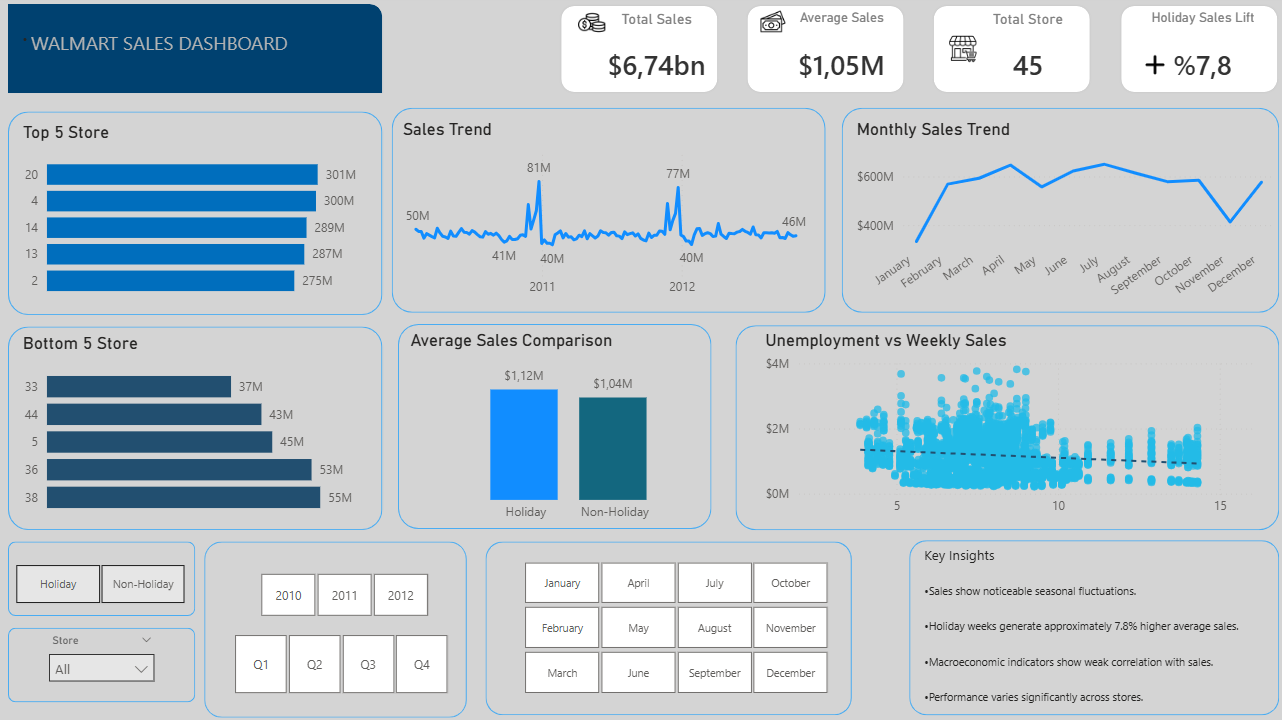

This screenshot's page, from the dashboard's own definition file:
{"tool":"powerbi","page":{"name":"Page 1","canvas":[1279,720],"ordinal":0},"visuals":[{"type":"group","id":"g1","title":"Group 17","box":[9.4,5,372.5,523.7],"z":0,"group":"g22"},{"type":"group","id":"g2","title":"Group 4","box":[9.4,5,372.5,88.9],"z":0,"group":"g20"},{"type":"group","id":"g3","title":"Group 21","box":[391.8,5,883.2,307.3],"z":0},{"type":"group","id":"g4","title":"Group 2","box":[558.5,5,716,89.6],"z":0,"group":"g12"},{"type":"group","id":"g5","title":"Group 1","box":[558.5,5,716,89.6],"z":0,"group":"g7"},{"type":"shape","box":[1115.2,5,159.3,89.6],"z":0,"group":"g5"},{"type":"shape","box":[391.8,108.2,431.7,204],"z":0,"group":"g19"},{"type":"shape","box":[733.9,324.7,541.1,204],"z":0,"group":"g18"},{"type":"group","id":"g6","title":"Group 9","box":[-2.5,539.8,207.3,74.1],"z":0,"group":"g9"},{"type":"group","id":"g7","title":"Group 5","box":[558.5,5,716,89.6],"z":1000,"group":"g4"},{"type":"image","box":[758.8,10,24.9,24.9],"z":1000,"group":"g12"},{"type":"cardVisual","title":"Total Sales","fields":{"Data":["Sum(Walmart1.Weekly_Sales)"]},"box":[577.2,11.6,156.7,80.9],"z":1000,"group":"g7"},{"type":"group","id":"g8","title":"Group 8","box":[9.4,112.5,372.5,202.6],"z":1000,"group":"g20"},{"type":"group","id":"g9","title":"Group 18","box":[-2.5,539.8,207.3,159.3],"z":1000,"group":"g22"},{"type":"shape","box":[485.1,539.9,364.5,172.9],"z":1000},{"type":"group","id":"g10","title":"Group 11","box":[9.4,625,186.3,74.1],"z":1000,"group":"g9"},{"type":"shape","box":[929.7,5,159.3,89.6],"z":2000,"group":"g5"},{"type":"image","box":[577.2,10,27.4,27.4],"z":2000,"group":"g4"},{"type":"cardVisual","title":"Holiday Sales Lift","fields":{"Data":["Holiday Sales Lift.Holiday Sales Lift"]},"box":[1138.3,11.6,121.9,83.3],"z":2000,"group":"g11"},{"type":"shape","box":[398.1,323.4,312,204],"z":2000},{"type":"shape","box":[9.4,326.1,372.5,202.6],"z":2000,"group":"g21"},{"type":"shape","box":[9.4,625,186.3,74.1],"z":2000,"group":"g10"},{"type":"shape","box":[744.1,5,159.3,89.6],"z":3000,"group":"g5"},{"type":"lineChart","title":"Sales Trend","fields":{"Y":["Sum(Sales Trend.Sum of Weekly_Sales)"],"Category":["Sales Trend.Date.Variation.Date Hierarchy.Year","Sales Trend.Date.Variation.Date Hierarchy.Quarter","Sales Trend.Date.Variation.Date Hierarchy.Month","Sales Trend.Date.Variation.Date Hierarchy.Day"]},"box":[398,119.4,414.2,185.3],"z":3000,"group":"g19"},{"type":"shape","box":[9.4,539.8,186.3,74.1],"z":3000,"group":"g6"},{"type":"shape","box":[205.3,539.9,261.2,175.4],"z":3000},{"type":"shape","box":[558.5,5,159.3,89.6],"z":4000,"group":"g5"},{"type":"cardVisual","title":"Average Sales","fields":{"Data":["Avg(Walmart1.Weekly_Sales)"]},"box":[771.3,11.6,136.8,83.3],"z":4000},{"type":"barChart","title":"Bottom 5 Store","fields":{"Y":["Sum(Bottom 5.Total_Weekly_Sales)"],"Category":["Bottom 5.Store"]},"box":[19.3,332.3,350.2,191.4],"z":4000,"group":"g21"},{"type":"group","id":"g11","title":"Group 7","box":[1138.3,11.6,121.9,83.3],"z":5000},{"type":"shape","box":[839.6,108.2,435.4,204],"z":5000,"group":"g23"},{"type":"group","id":"g12","title":"Group 6","box":[558.5,5,716,89.6],"z":6000,"group":"g23"},{"type":"slicer","fields":{"Values":["Walmart1.Date.Variation.Date Hierarchy.Year"]},"box":[241.3,569.7,205.3,46],"z":6000},{"type":"cardVisual","title":"Total Store","fields":{"Data":["Count(Walmart1.Store)"]},"box":[974.1,11.6,102,80.9],"z":7000,"group":"g15"},{"type":"shape","box":[9.4,112.5,372.5,202.6],"z":7000,"group":"g8"},{"type":"slicer","fields":{"Values":["Walmart1.Date.Variation.Date Hierarchy.Month"]},"box":[503.8,558.5,345.8,134.3],"z":7000},{"type":"group","id":"g13","title":"Group 3","box":[946.7,11.6,129.4,80.9],"z":8000},{"type":"columnChart","title":"Average Sales Comparison","fields":{"Y":["Avg(Walmart1.Weekly_Sales)"],"Category":["Walmart1.Holiday Type"]},"box":[405.5,329.7,328.4,199],"z":8000,"group":"g14"},{"type":"image","box":[1138.2,52.2,26.1,26.1],"z":9000},{"type":"barChart","title":"Top 5 Store","fields":{"Category":["Top 5.Store"],"Y":["Sum(Top 5.Total_Weekly_Sales)"]},"box":[19.3,122.4,350.2,185.3],"z":9000,"group":"g8"},{"type":"scatterChart","title":"Unemployment vs Weekly Sales","fields":{"X":["Walmart1.Unemployment"],"Y":["Walmart1.Weekly_Sales"]},"box":[758.8,329.7,501.3,192.8],"z":9000,"group":"g18"},{"type":"shape","box":[906.8,538.6,368.2,174.2],"z":10000,"group":"g16"},{"type":"slicer","fields":{"Values":["Walmart1.Quarter"]},"box":[215.2,630.7,251.3,62.2],"z":10000},{"type":"group","id":"g14","title":"Group 22","box":[-2.5,5,1277.5,694.1],"z":11000},{"type":"image","box":[946.7,35.9,27.4,27.4],"z":11000,"group":"g15"},{"type":"lineChart","title":"Monthly Sales Trend","fields":{"Category":["Walmart1.Date.Variation.Date Hierarchy.Month"],"Y":["Sum(Walmart1.Weekly_Sales)"]},"box":[849.6,119.4,425.4,189.1],"z":11000,"group":"g23"},{"type":"group","id":"g15","title":"Group 10","box":[946.7,11.6,129.4,80.9],"z":11001,"group":"g13"},{"type":"shape","box":[9.4,5,372.5,88.9],"z":12000,"group":"g2"},{"type":"group","id":"g16","title":"Group 23","box":[906.8,521.2,368.2,191.6],"z":12000},{"type":"textbox","box":[9.4,26,372.5,51.9],"z":13000,"group":"g2"},{"type":"group","id":"g17","title":"Group 12","box":[9.4,326.1,372.5,202.6],"z":14000,"group":"g1"},{"type":"group","id":"g18","title":"Group 14","box":[733.9,324.7,541.1,204],"z":16000,"group":"g14"},{"type":"group","id":"g19","title":"Group 15","box":[391.8,108.2,431.7,204],"z":17000,"group":"g3"},{"type":"slicer","fields":{"Values":["Walmart1.Holiday Type"]},"box":[-2.5,561.2,207.3,42],"z":20000,"group":"g6"},{"type":"slicer","fields":{"Values":["Walmart1.Store"]},"box":[45.4,631.2,114.2,65.5],"z":21000,"group":"g10"},{"type":"textbox","box":[916.8,521.2,358.3,190.3],"z":26000,"group":"g16"},{"type":"group","id":"g20","title":"Group 16","box":[9.4,5,372.5,310],"z":27005,"group":"g1"},{"type":"group","id":"g21","title":"Group 13","box":[9.4,326.1,372.5,202.6],"z":27005,"group":"g17"},{"type":"group","id":"g22","title":"Group 19","box":[-2.5,5,384.4,694.1],"z":27008,"group":"g14"},{"type":"group","id":"g23","title":"Group 20","box":[558.5,5,716.5,307.3],"z":27009,"group":"g3"}]}

Visuals, with their boxes in screenshot pixels (x1, y1, x2, y2), scaled from the page's 1279x720 canvas onto the 1282x720 screenshot:
"Group 17" group: {"left": 9, "top": 5, "right": 383, "bottom": 529}
"Group 4" group: {"left": 9, "top": 5, "right": 383, "bottom": 94}
"Group 21" group: {"left": 393, "top": 5, "right": 1278, "bottom": 312}
"Group 2" group: {"left": 560, "top": 5, "right": 1277, "bottom": 95}
"Group 1" group: {"left": 560, "top": 5, "right": 1277, "bottom": 95}
shape: {"left": 1118, "top": 5, "right": 1277, "bottom": 95}
shape: {"left": 393, "top": 108, "right": 825, "bottom": 312}
shape: {"left": 736, "top": 325, "right": 1278, "bottom": 529}
"Group 9" group: {"left": 0, "top": 540, "right": 205, "bottom": 614}
"Group 5" group: {"left": 560, "top": 5, "right": 1277, "bottom": 95}
image: {"left": 761, "top": 10, "right": 786, "bottom": 35}
"Total Sales" cardVisual: {"left": 579, "top": 12, "right": 736, "bottom": 92}
"Group 8" group: {"left": 9, "top": 112, "right": 383, "bottom": 315}
"Group 18" group: {"left": 0, "top": 540, "right": 205, "bottom": 699}
shape: {"left": 486, "top": 540, "right": 852, "bottom": 713}
"Group 11" group: {"left": 9, "top": 625, "right": 196, "bottom": 699}
shape: {"left": 932, "top": 5, "right": 1092, "bottom": 95}
image: {"left": 579, "top": 10, "right": 606, "bottom": 37}
"Holiday Sales Lift" cardVisual: {"left": 1141, "top": 12, "right": 1263, "bottom": 95}
shape: {"left": 399, "top": 323, "right": 712, "bottom": 527}
shape: {"left": 9, "top": 326, "right": 383, "bottom": 529}
shape: {"left": 9, "top": 625, "right": 196, "bottom": 699}
shape: {"left": 746, "top": 5, "right": 906, "bottom": 95}
"Sales Trend" lineChart: {"left": 399, "top": 119, "right": 814, "bottom": 305}
shape: {"left": 9, "top": 540, "right": 196, "bottom": 614}
shape: {"left": 206, "top": 540, "right": 468, "bottom": 715}
shape: {"left": 560, "top": 5, "right": 719, "bottom": 95}
"Average Sales" cardVisual: {"left": 773, "top": 12, "right": 910, "bottom": 95}
"Bottom 5 Store" barChart: {"left": 19, "top": 332, "right": 370, "bottom": 524}
"Group 7" group: {"left": 1141, "top": 12, "right": 1263, "bottom": 95}
shape: {"left": 842, "top": 108, "right": 1278, "bottom": 312}
"Group 6" group: {"left": 560, "top": 5, "right": 1277, "bottom": 95}
slicer - Walmart1.Date.Variation.Date Hierarchy.Year: {"left": 242, "top": 570, "right": 448, "bottom": 616}
"Total Store" cardVisual: {"left": 976, "top": 12, "right": 1079, "bottom": 92}
shape: {"left": 9, "top": 112, "right": 383, "bottom": 315}
slicer - Walmart1.Date.Variation.Date Hierarchy.Month: {"left": 505, "top": 558, "right": 852, "bottom": 693}
"Group 3" group: {"left": 949, "top": 12, "right": 1079, "bottom": 92}
"Average Sales Comparison" columnChart: {"left": 406, "top": 330, "right": 736, "bottom": 529}
image: {"left": 1141, "top": 52, "right": 1167, "bottom": 78}
"Top 5 Store" barChart: {"left": 19, "top": 122, "right": 370, "bottom": 308}
"Unemployment vs Weekly Sales" scatterChart: {"left": 761, "top": 330, "right": 1263, "bottom": 522}
shape: {"left": 909, "top": 539, "right": 1278, "bottom": 713}
slicer - Walmart1.Quarter: {"left": 216, "top": 631, "right": 468, "bottom": 693}
"Group 22" group: {"left": 0, "top": 5, "right": 1278, "bottom": 699}
image: {"left": 949, "top": 36, "right": 976, "bottom": 63}
"Monthly Sales Trend" lineChart: {"left": 852, "top": 119, "right": 1278, "bottom": 308}
"Group 10" group: {"left": 949, "top": 12, "right": 1079, "bottom": 92}
shape: {"left": 9, "top": 5, "right": 383, "bottom": 94}
"Group 23" group: {"left": 909, "top": 521, "right": 1278, "bottom": 713}
textbox: {"left": 9, "top": 26, "right": 383, "bottom": 78}
"Group 12" group: {"left": 9, "top": 326, "right": 383, "bottom": 529}
"Group 14" group: {"left": 736, "top": 325, "right": 1278, "bottom": 529}
"Group 15" group: {"left": 393, "top": 108, "right": 825, "bottom": 312}
slicer - Walmart1.Holiday Type: {"left": 0, "top": 561, "right": 205, "bottom": 603}
slicer - Walmart1.Store: {"left": 46, "top": 631, "right": 160, "bottom": 697}
textbox: {"left": 919, "top": 521, "right": 1278, "bottom": 712}
"Group 16" group: {"left": 9, "top": 5, "right": 383, "bottom": 315}
"Group 13" group: {"left": 9, "top": 326, "right": 383, "bottom": 529}
"Group 19" group: {"left": 0, "top": 5, "right": 383, "bottom": 699}
"Group 20" group: {"left": 560, "top": 5, "right": 1278, "bottom": 312}
